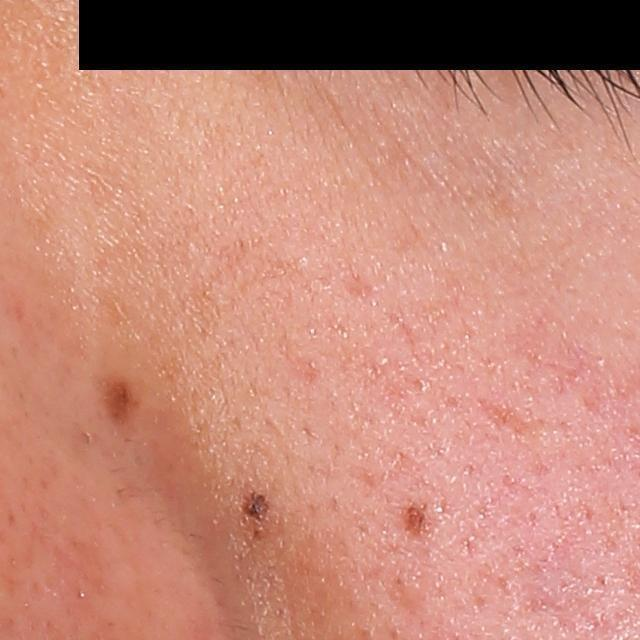nevus: (89, 373, 137, 428), (238, 488, 271, 528), (403, 501, 428, 539)
